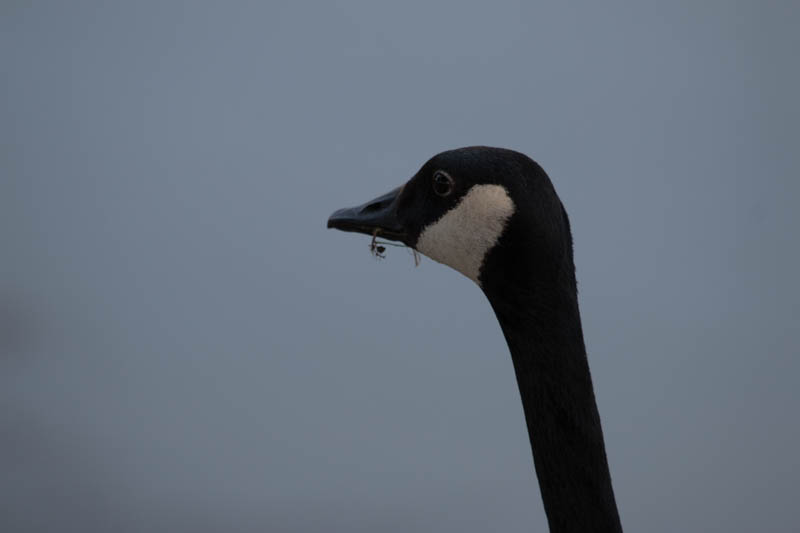goose-head: (325, 146, 577, 288)
